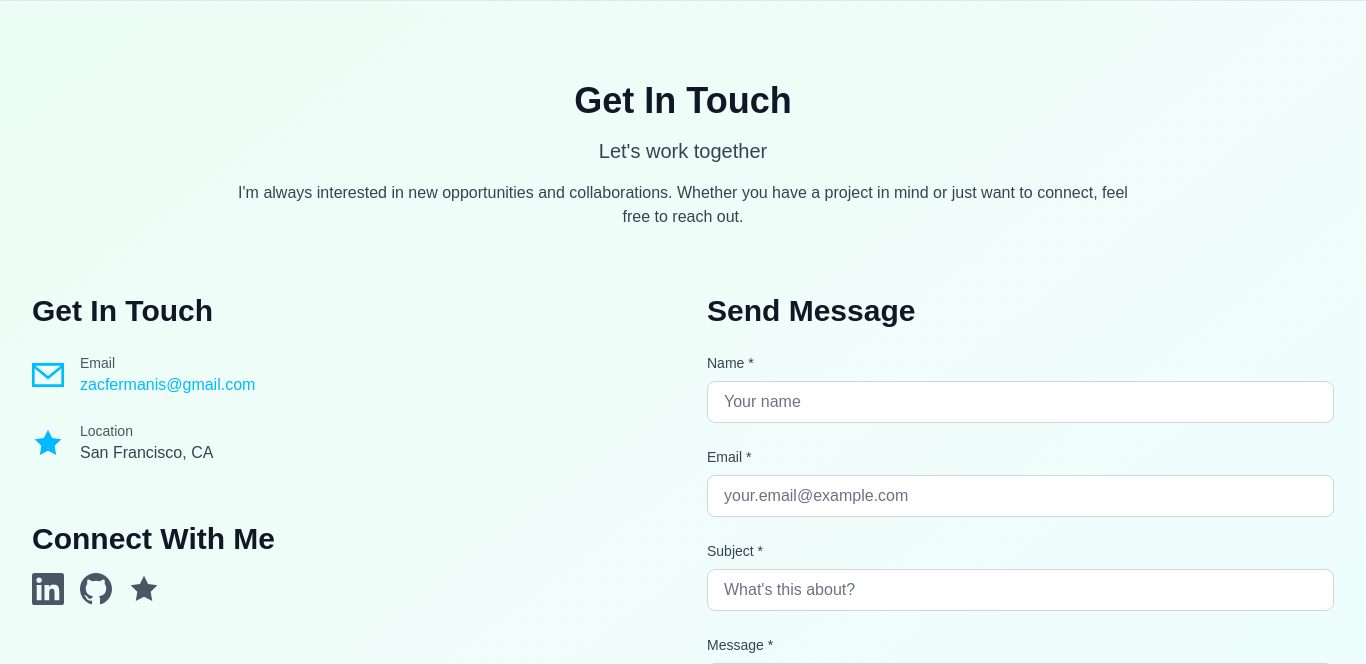
Test case: Contact › shows validation error for invalid email
Fill in all fields with valid data except email
In the field labelled "Name *": coordinates (1020, 402) [707,381,1334,423], type "John Doe"
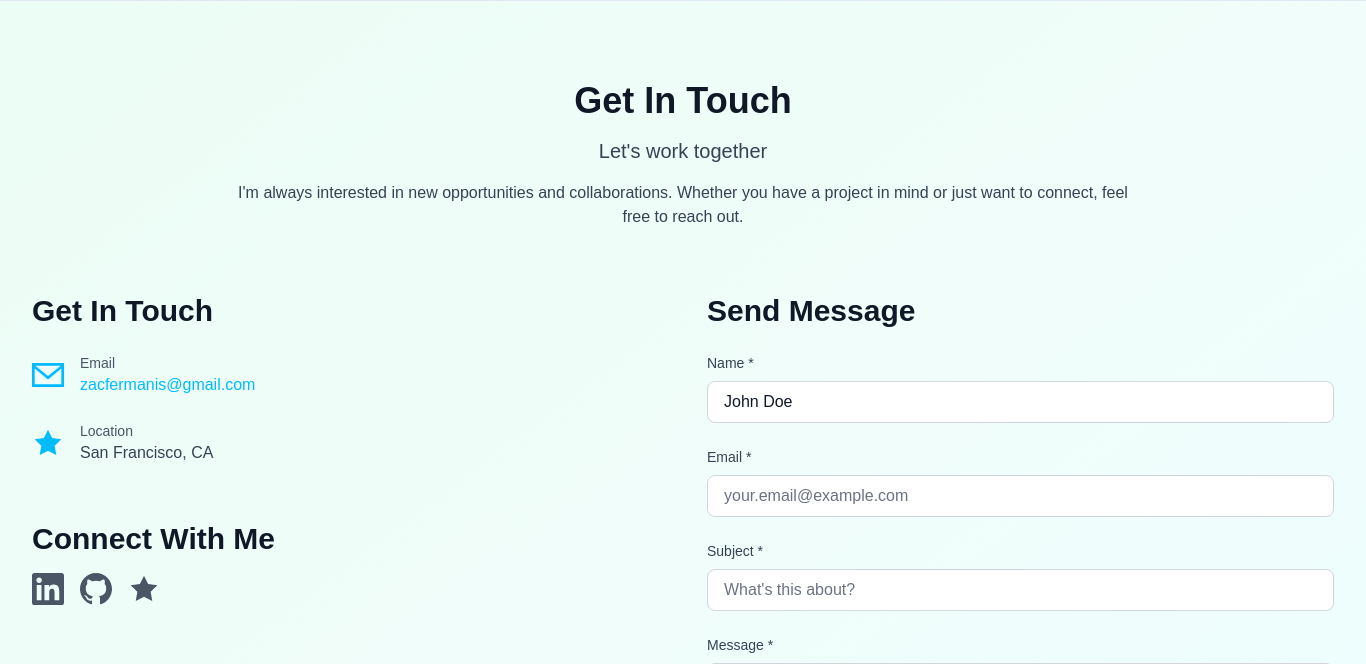
In the field labelled "Email *": coordinates (1020, 496) [707,475,1334,517], type "invalid-email"
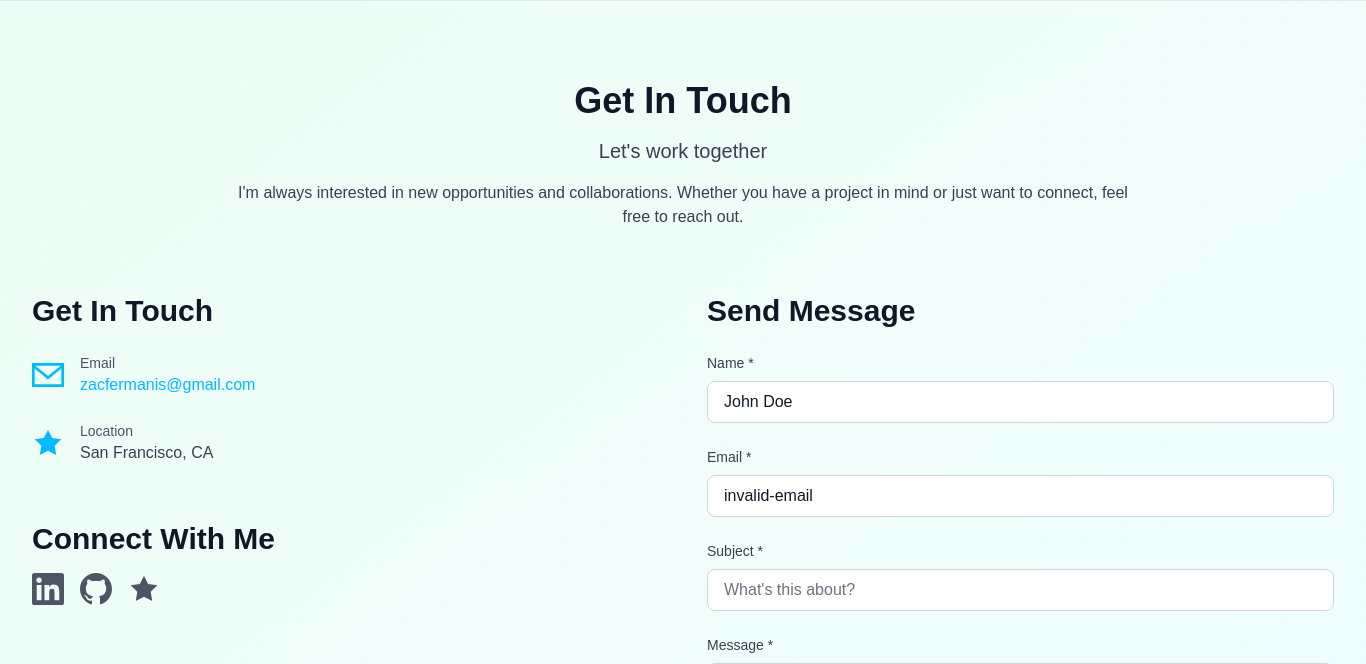
In the field labelled "Subject *": coordinates (1020, 590) [707,569,1334,611], type "Test Subject"
(page scrolled)
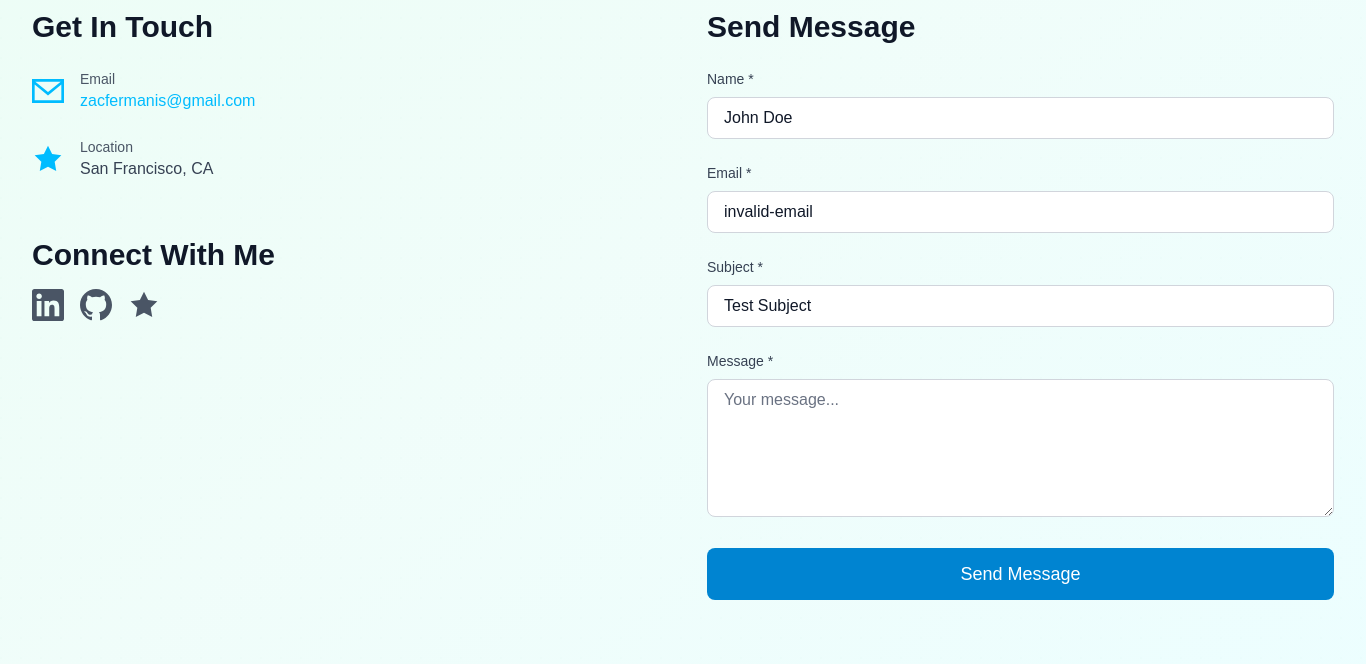
In the text box labelled "Message *": coordinates (1020, 448) [707,379,1334,517], type "Test message"
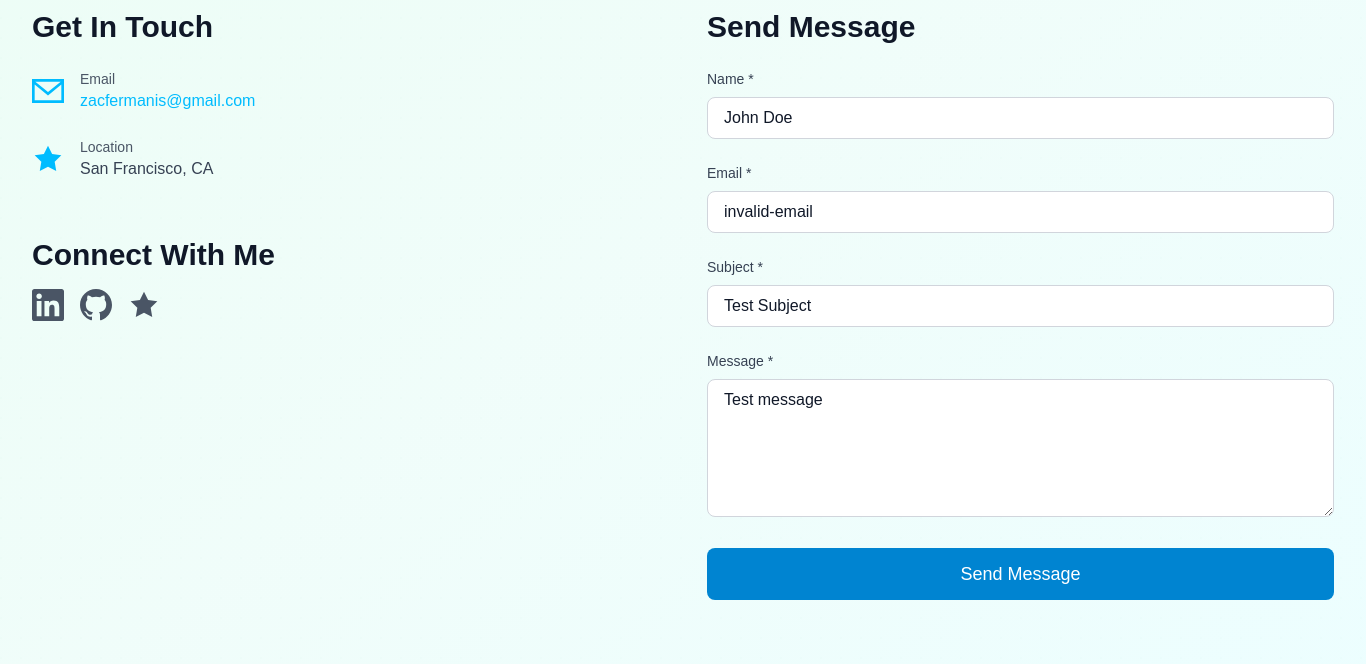
Submit the form, box [707,69,1334,600]
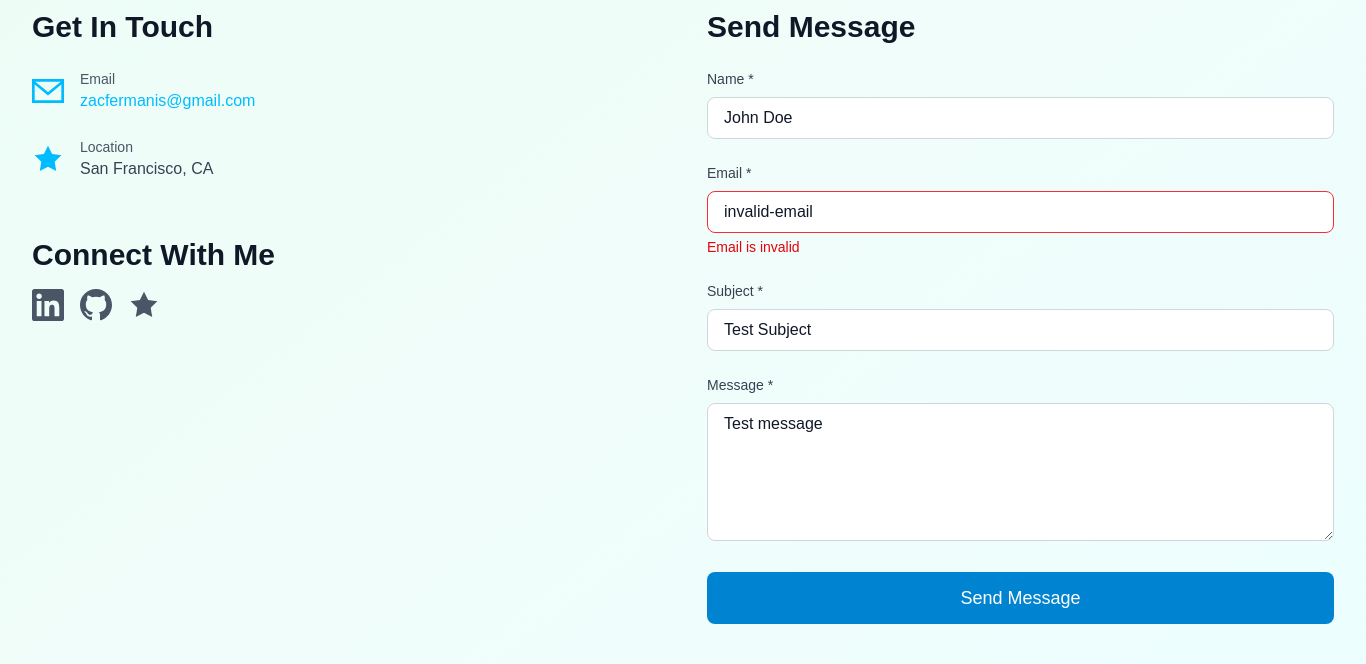
expect the text "Email is invalid" is shown: met, box [707,239,800,255]
